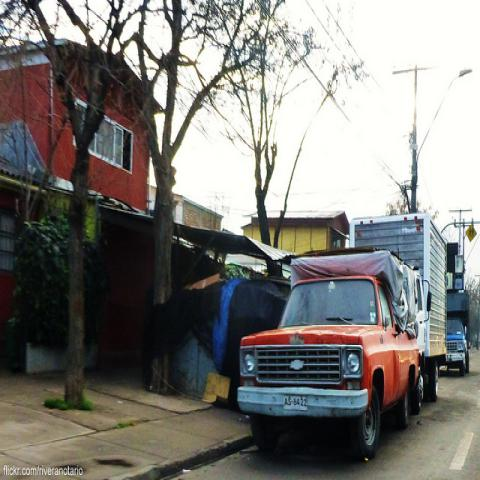truck: (238, 215, 448, 459), (447, 289, 470, 375)
